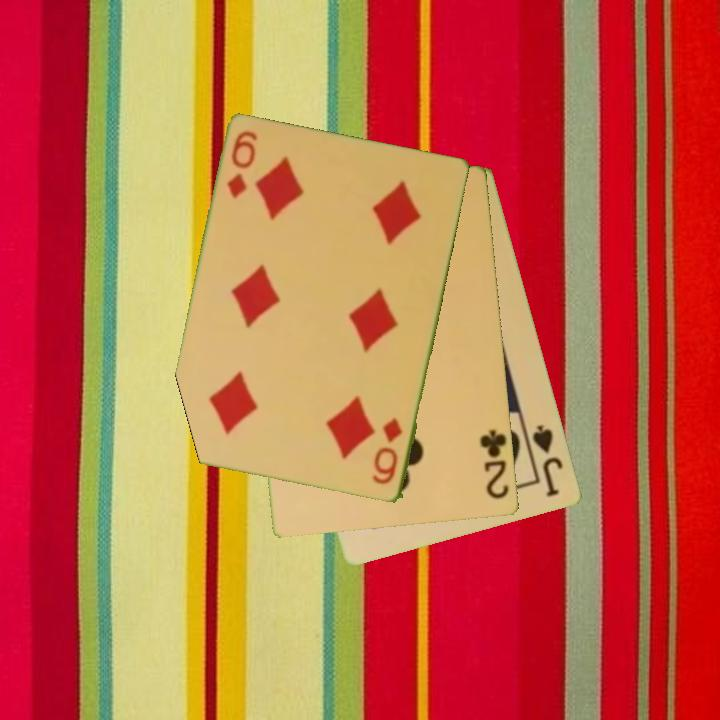2c: (477, 426, 512, 502)
6d: (369, 414, 406, 488), (224, 128, 261, 202)
Js: (529, 421, 567, 500)
